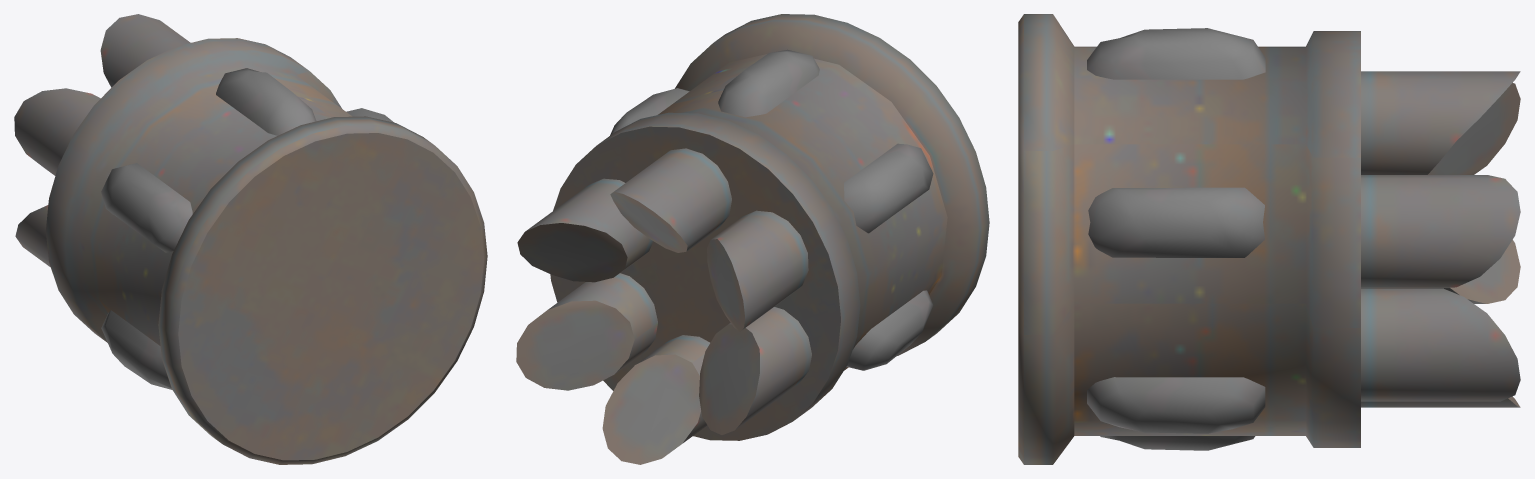
The model's file is barrel3.obj.
The picture shows the model from 3 angles, left to right: view 1: azimuth 30°, elevation 25°; view 2: azimuth 150°, elevation 25°; view 3: azimuth 270°, elevation 25°; orthographic projection. The views are drawn at different scales.
Parts seen in each view (by area): view 1: barrel3; view 2: barrel3; view 3: barrel3.
Boxes of the visible parts, box(x1,y1,x2,y2) form: barrel3: box(14, 14, 487, 464); barrel3: box(516, 14, 989, 464); barrel3: box(1018, 14, 1520, 464).
Size of the model in its own units: 18.13 by 18.12 by 20.12.
